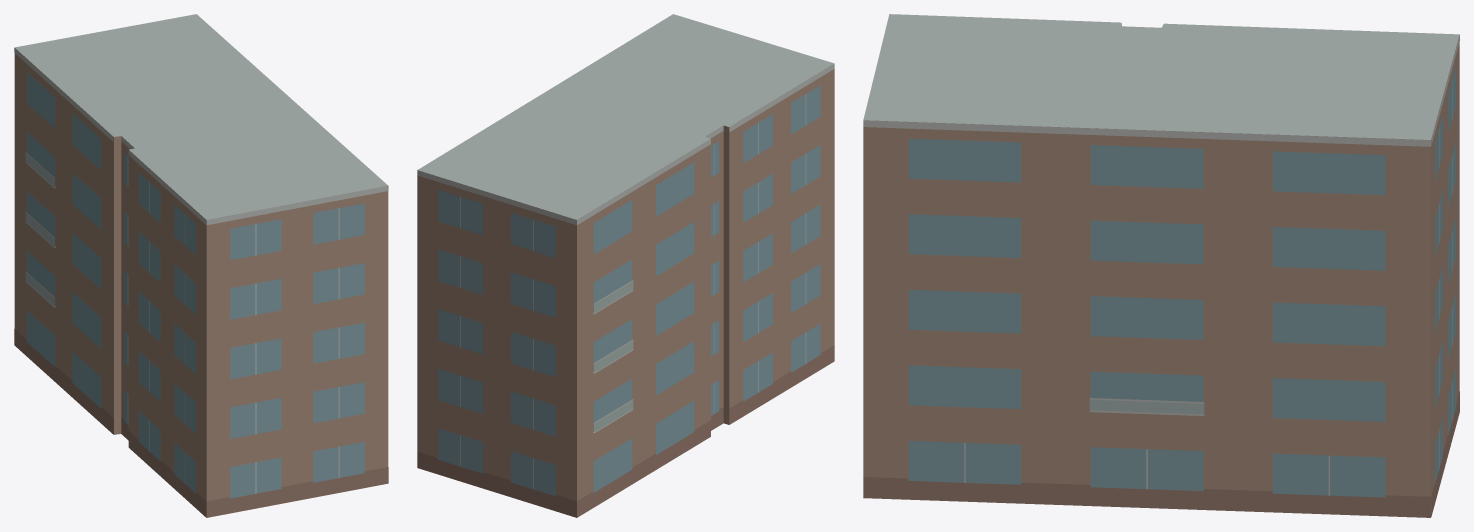
File: survey-upis-32926874.glb
3 views of the same model, side by side, from view 1: azimuth 30°, elevation 25°; view 2: azimuth 150°, elevation 25°; view 3: azimuth 270°, elevation 25° (orthographic). The views are drawn at different scales.
Parts seen in each view (by area): view 1: survey-upis-32926874.tmp; view 2: survey-upis-32926874.tmp; view 3: survey-upis-32926874.tmp.
Boxes of the visible parts, x1,y1,x2,y2 form: survey-upis-32926874.tmp: (14, 14, 388, 517); survey-upis-32926874.tmp: (417, 14, 834, 517); survey-upis-32926874.tmp: (863, 14, 1459, 517).
Bounding box in the file's own units: 9.74 × 13.6 × 19.47.
